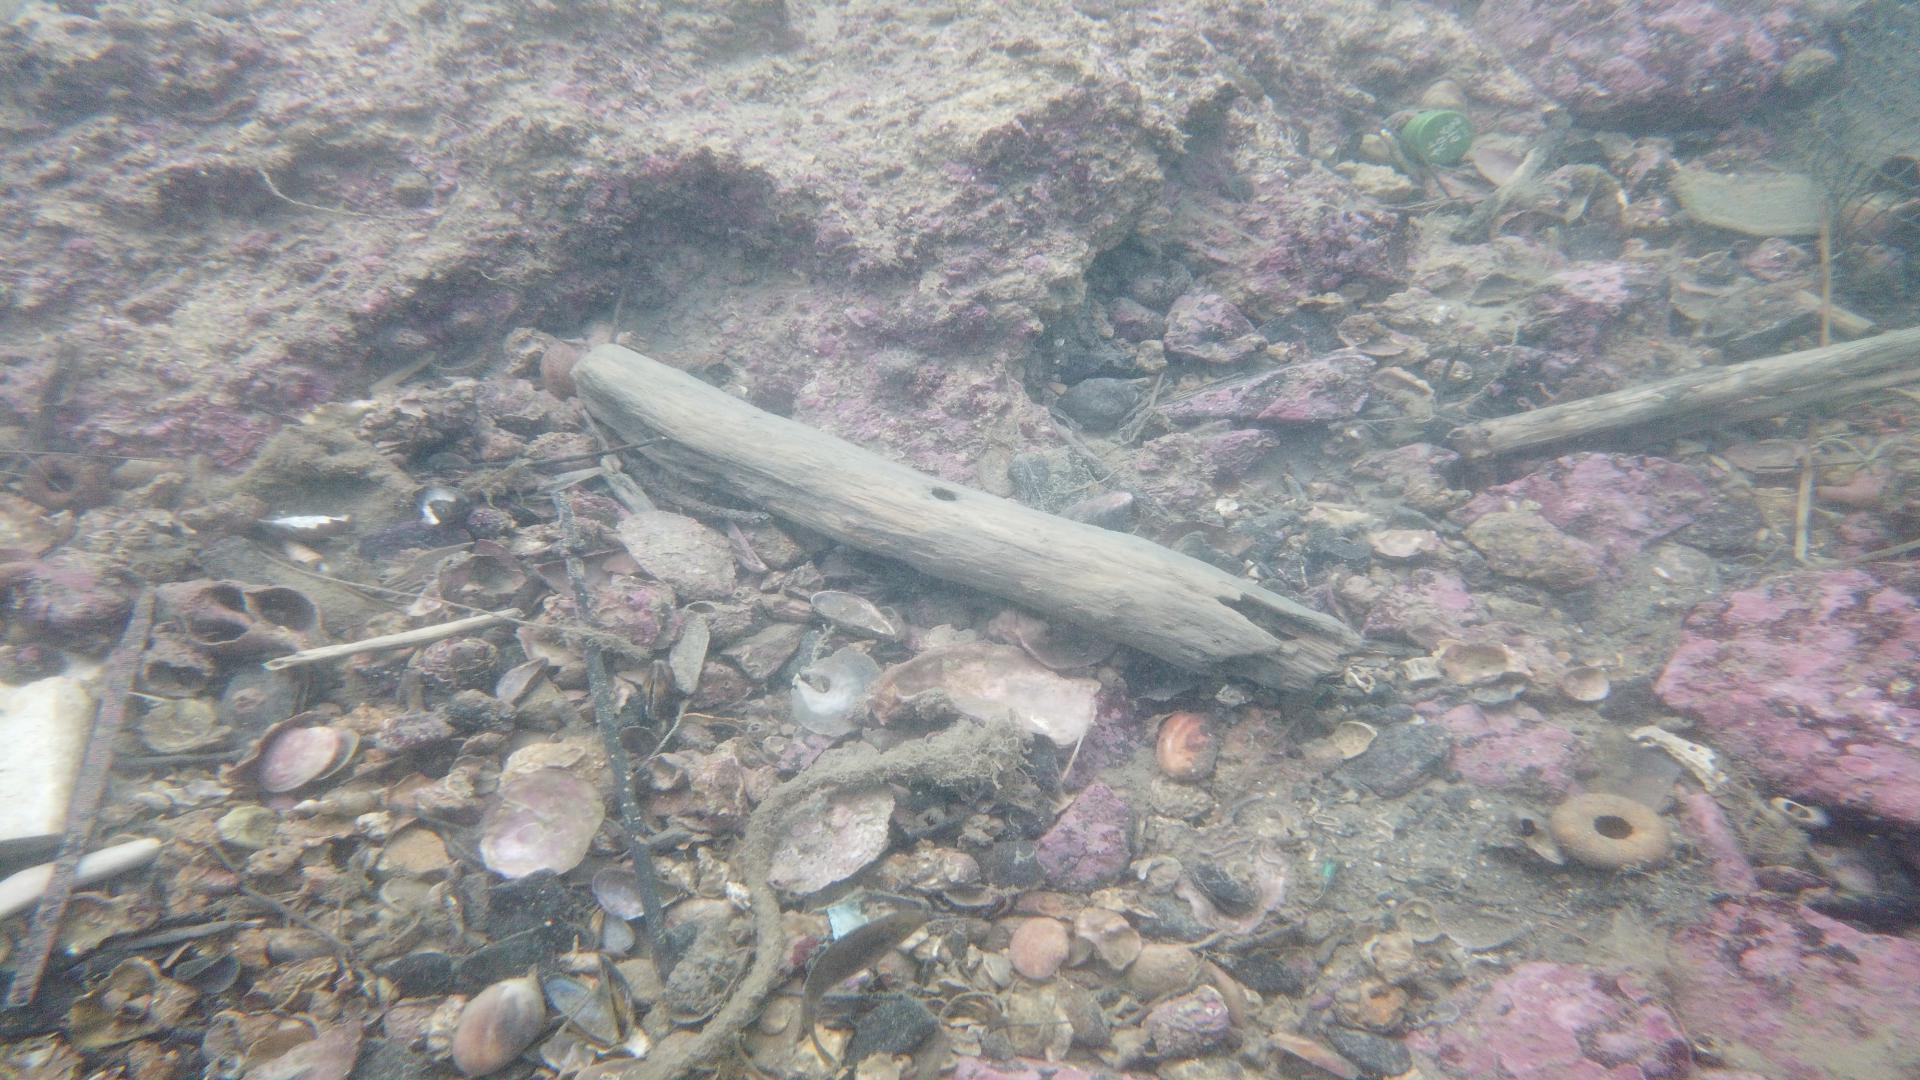fish net: (1807, 0, 1920, 319)
rope: (603, 737, 934, 1080)
wood: (572, 339, 1366, 695), (1449, 327, 1917, 465)
